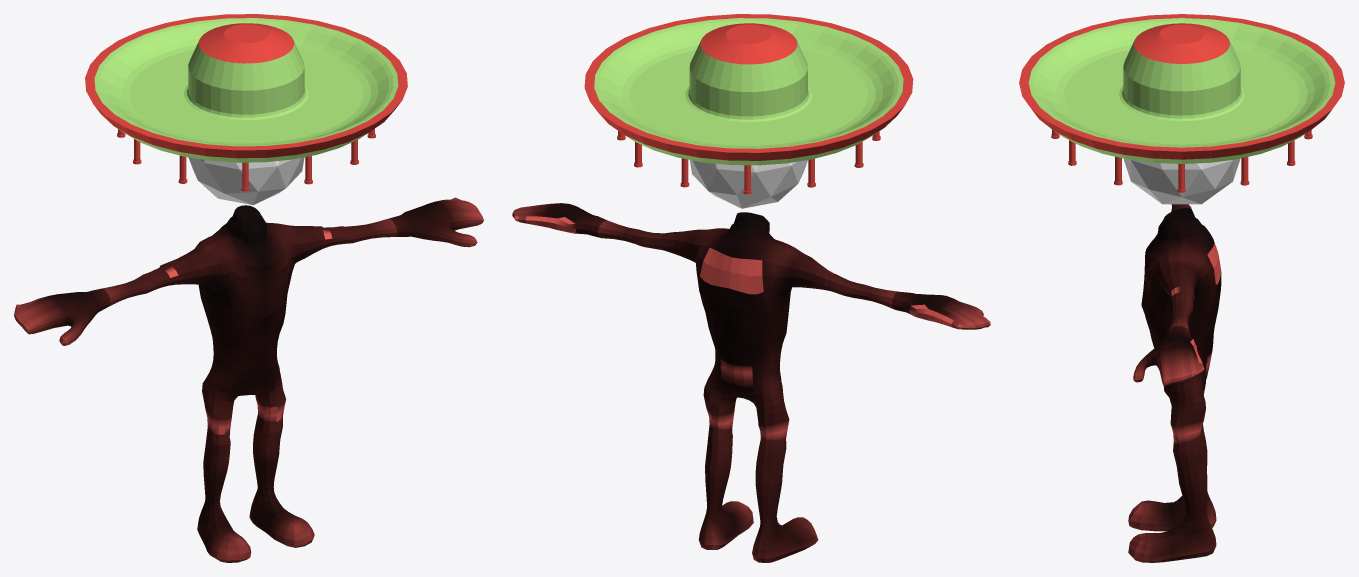
File: kırmızı adam.fbx
3 views of the same model, side by side, from view 1: azimuth 30°, elevation 25°; view 2: azimuth 150°, elevation 25°; view 3: azimuth 270°, elevation 25° (orthographic).
Visible parts, largest first — view 1: Circle, Satria, Icosphere, Cube; view 2: Circle, Satria, Icosphere, Cube; view 3: Circle, Satria, Icosphere, Cube.
Boxes of the visible parts, left/top/right/bottom form: Circle: left=85, top=14, right=407, bottom=162; Satria: left=14, top=197, right=483, bottom=562; Icosphere: left=188, top=157, right=304, bottom=205; Cube: left=117, top=128, right=375, bottom=191; Circle: left=584, top=14, right=913, bottom=165; Satria: left=512, top=203, right=990, bottom=562; Icosphere: left=689, top=160, right=807, bottom=208; Cube: left=617, top=131, right=880, bottom=194; Circle: left=1019, top=14, right=1344, bottom=163; Satria: left=1128, top=204, right=1221, bottom=562; Icosphere: left=1123, top=158, right=1240, bottom=204; Cube: left=1051, top=130, right=1312, bottom=192.
Bounding box in the file's own units: 185 × 194 × 113.
